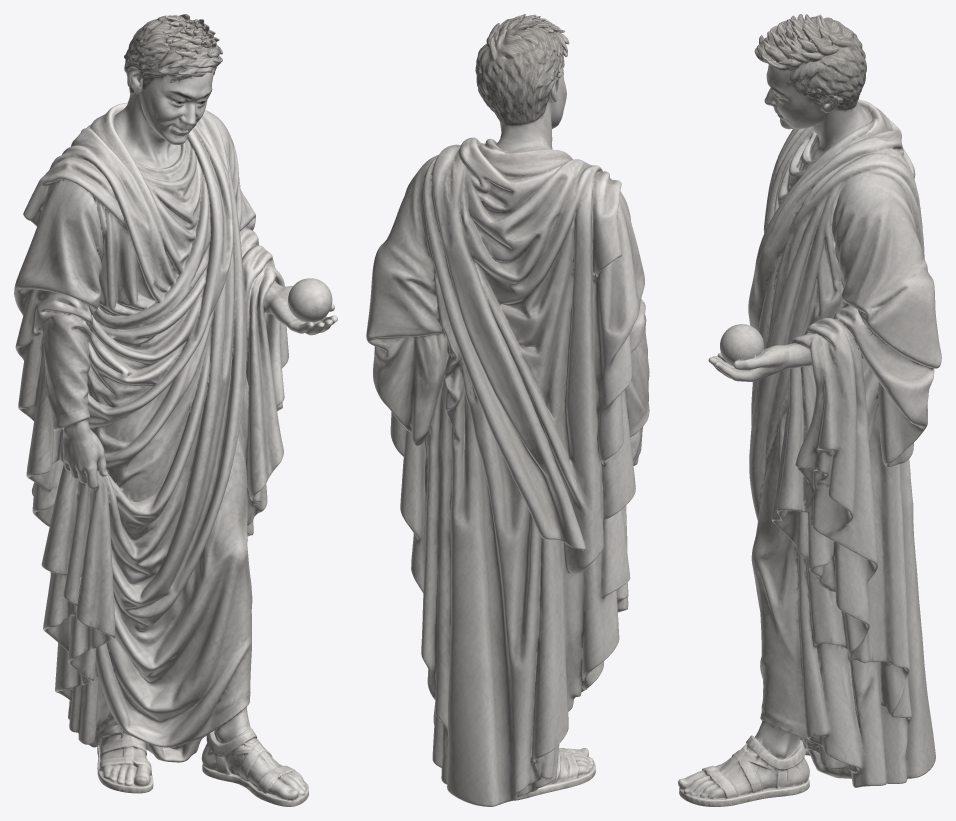
File: kent.glb
3 renders of one model, left to right at view 1: azimuth 30°, elevation 25°; view 2: azimuth 150°, elevation 25°; view 3: azimuth 270°, elevation 25°, orthographic.
Visible parts, largest first — view 1: Mesh_0.001; view 2: Mesh_0.001; view 3: Mesh_0.001.
Boxes of the visible parts, box(x1,y1,x2,y2) form: Mesh_0.001: box(14, 14, 337, 806); Mesh_0.001: box(366, 14, 649, 806); Mesh_0.001: box(678, 14, 941, 806).
Bounding box in the file's own units: 2.86 × 8 × 2.55.
Materials: 1 (1 with a texture image).
